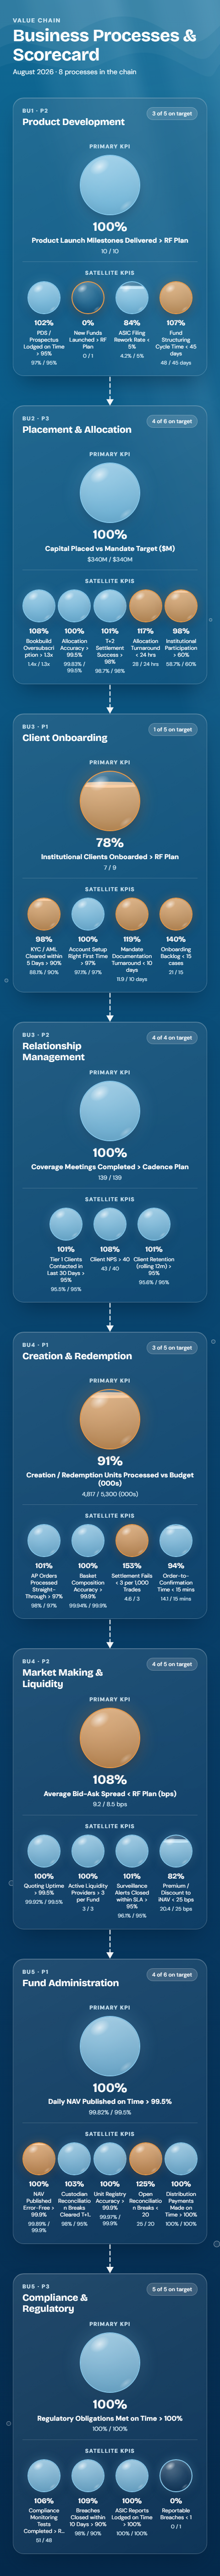

Layout of this report page (visuals, bound fields, positions):
{"tool":"powerbi","page":{"name":"Page 1","canvas":[1920,1080],"ordinal":0},"visuals":[{"type":"valueChainVisualiserE2BF44FFB3A34F0CB6D06A2CB79AE14B","fields":{"node":["Query1.node"],"nodeOrder":["Query1.nodeOrder"],"group":["Query1.group"],"subGroup":["Query1.subGroup"],"metric":["Query1.metric"],"operator":["Query1.operator"],"valueType":["Query1.valueType"],"symbol":["Query1.symbol"],"year":["Query1.year"],"period":["Query1.period"],"actual":["Sum(Query1.actual)"],"budget":["Sum(Query1.budget)"]},"box":[10.6,72.4,1768.1,1006.3],"z":0},{"type":"slicer","fields":{"Values":["Query1.year"]},"box":[911.2,16.6,247.4,55.8],"z":1},{"type":"slicer","fields":{"Values":["Query1.period"]},"box":[1169.2,16.6,274.6,55.8],"z":2}]}

Visuals, with their boxes on the page's 1920x1080 design canvas (x1, y1, x2, y2). These are canvas units, not pixel positions in the 220x2576 screenshot, which may show the page scaled, cropped or inside an application window:
valueChainVisualiserE2BF44FFB3A34F0CB6D06A2CB79AE14B - Query1.node x Query1.nodeOrder: [x1=11, y1=72, x2=1779, y2=1079]
slicer - Query1.year: [x1=911, y1=17, x2=1159, y2=72]
slicer - Query1.period: [x1=1169, y1=17, x2=1444, y2=72]
